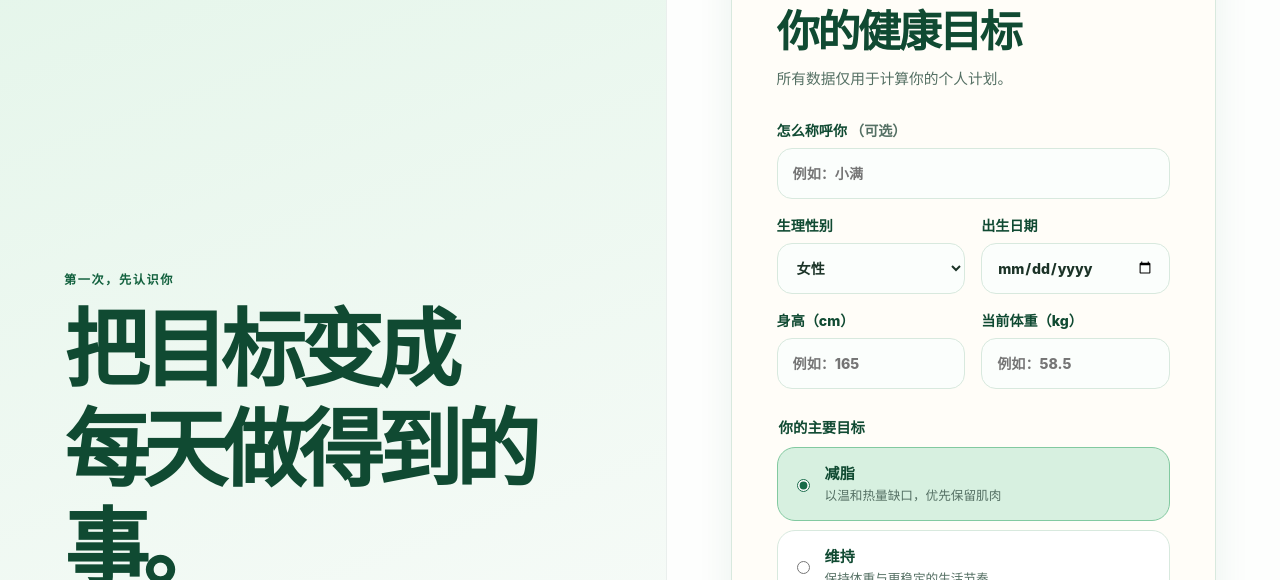
InitialSetupPage › calculates targets and saves profile, goal, and initial weight
Type "1996-04-10" into the date field labelled "出生日期". click: (1076, 268)
box: [981,242,1170,294]
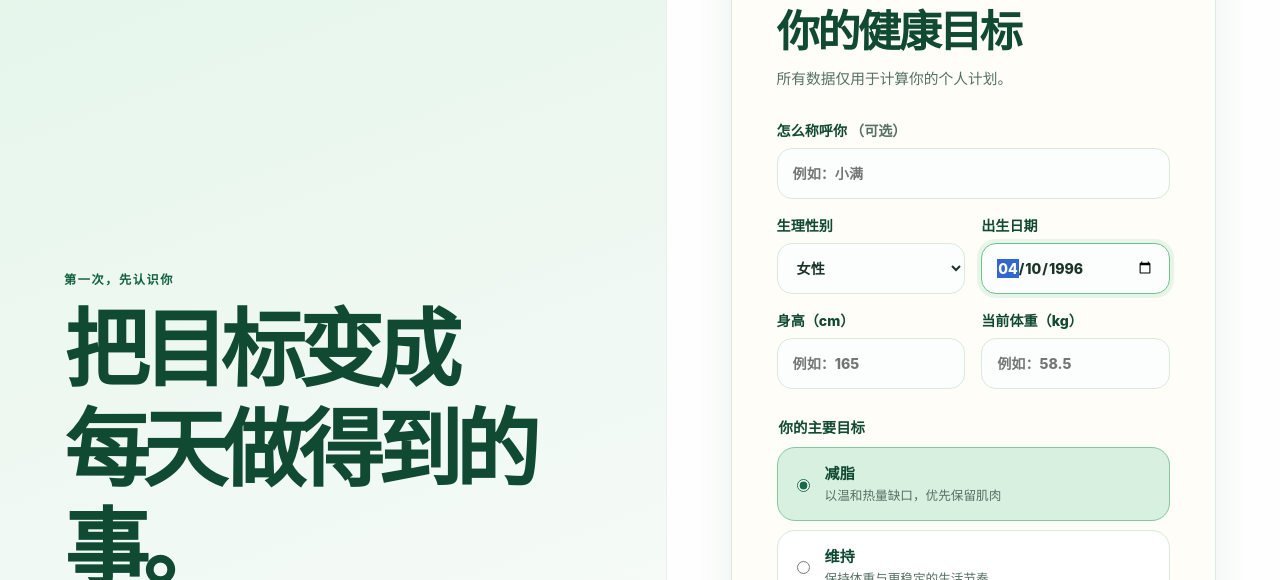
Type "165" into the field labelled "身高（cm）". click: (871, 363)
box: [777,338,965,388]
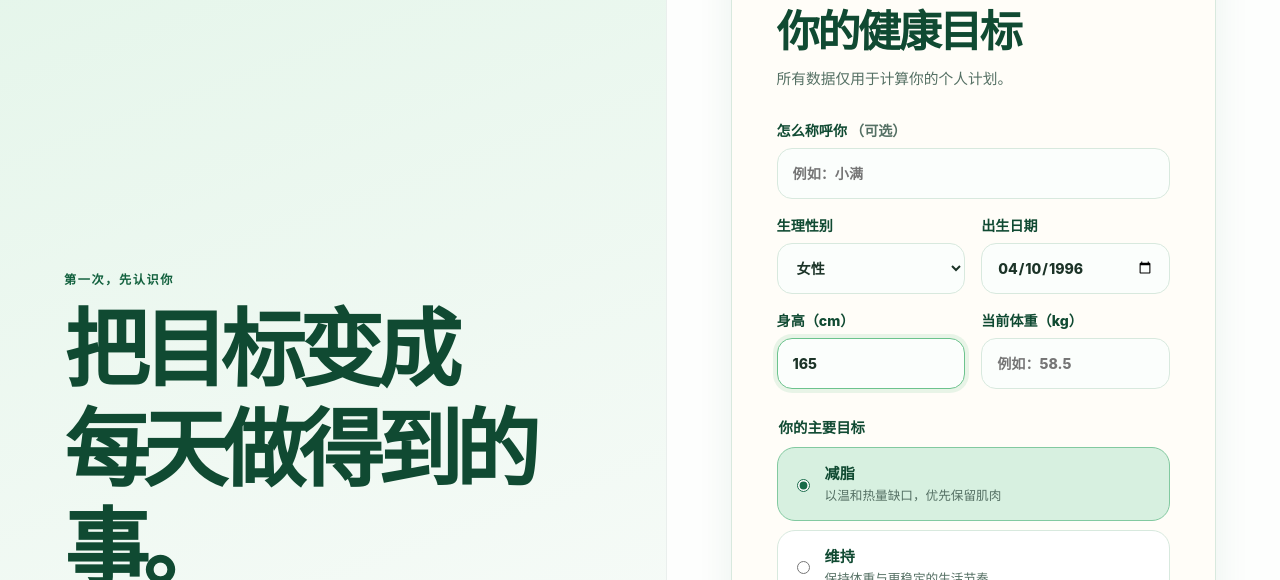
Type "58.5" into the field labelled "当前体重（kg）". click: (1076, 363)
box: [981,338,1170,388]
(page scrolled)
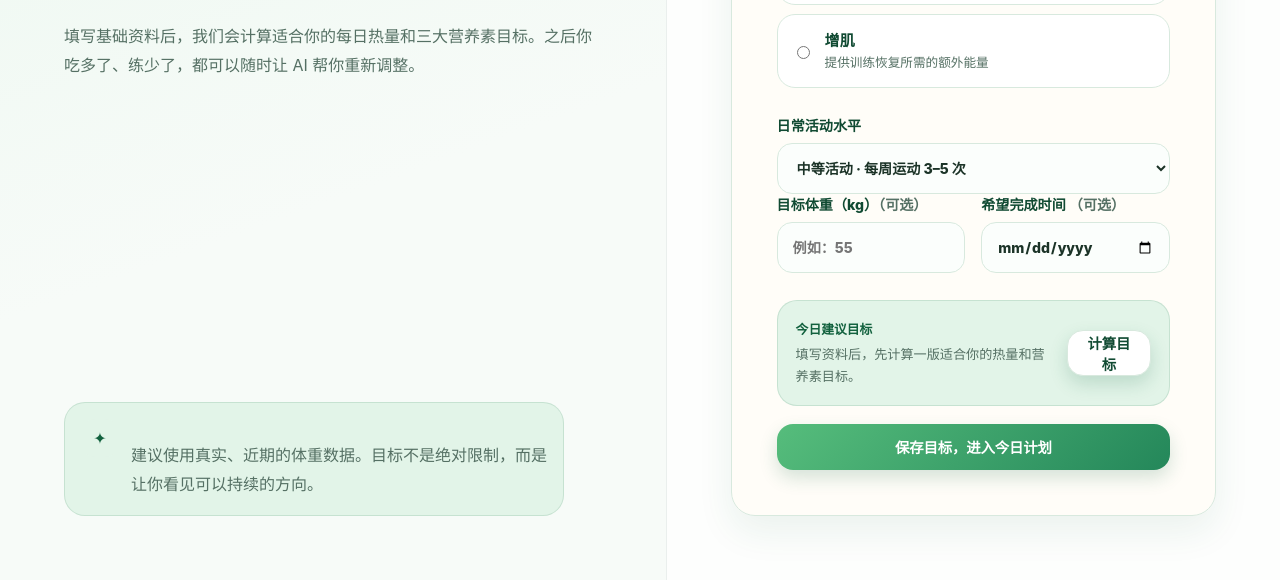
Click the submit button. click: (973, 447)
box: [777,424,1170,470]
(page scrolled)
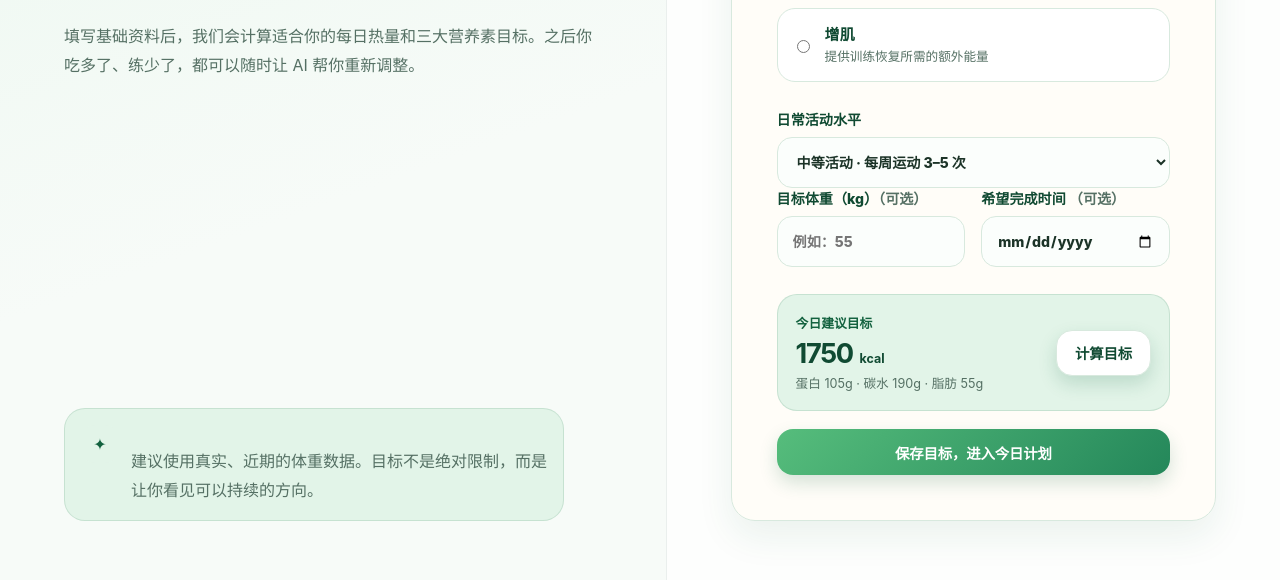
Check: the message shows "1750", box [796,337,853,370]
